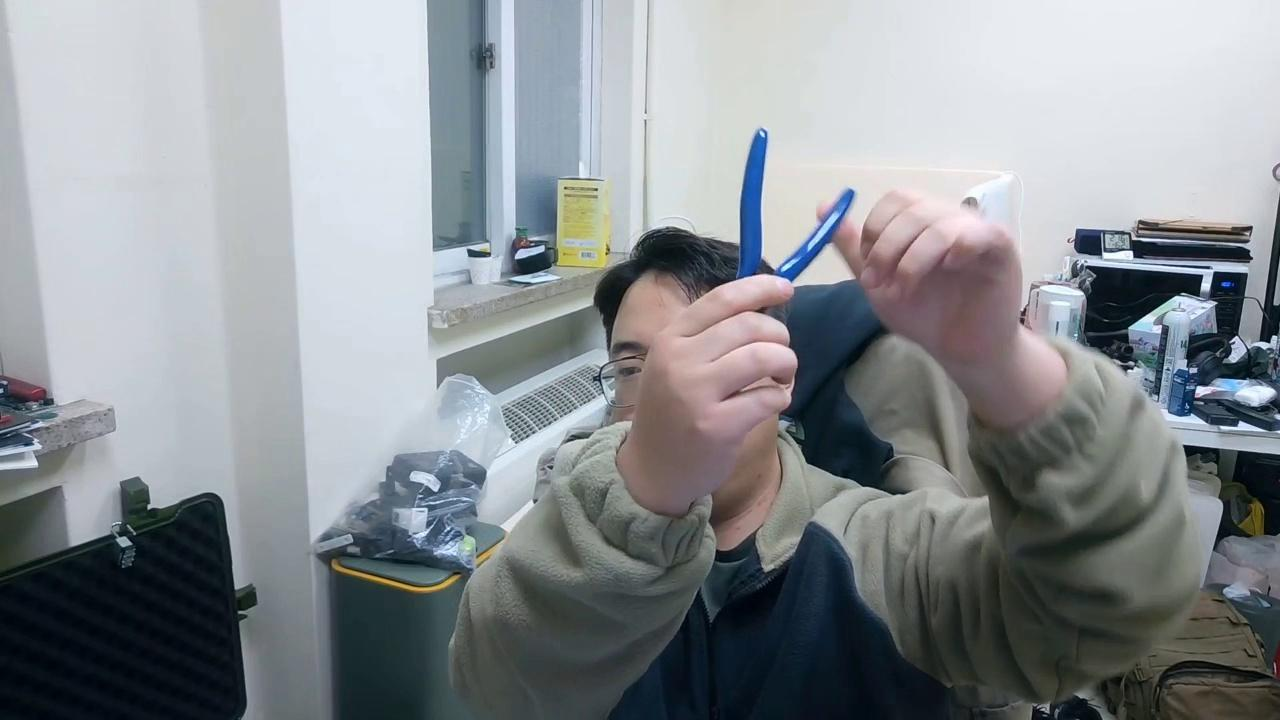blue_pliers: (735, 125, 858, 285)
